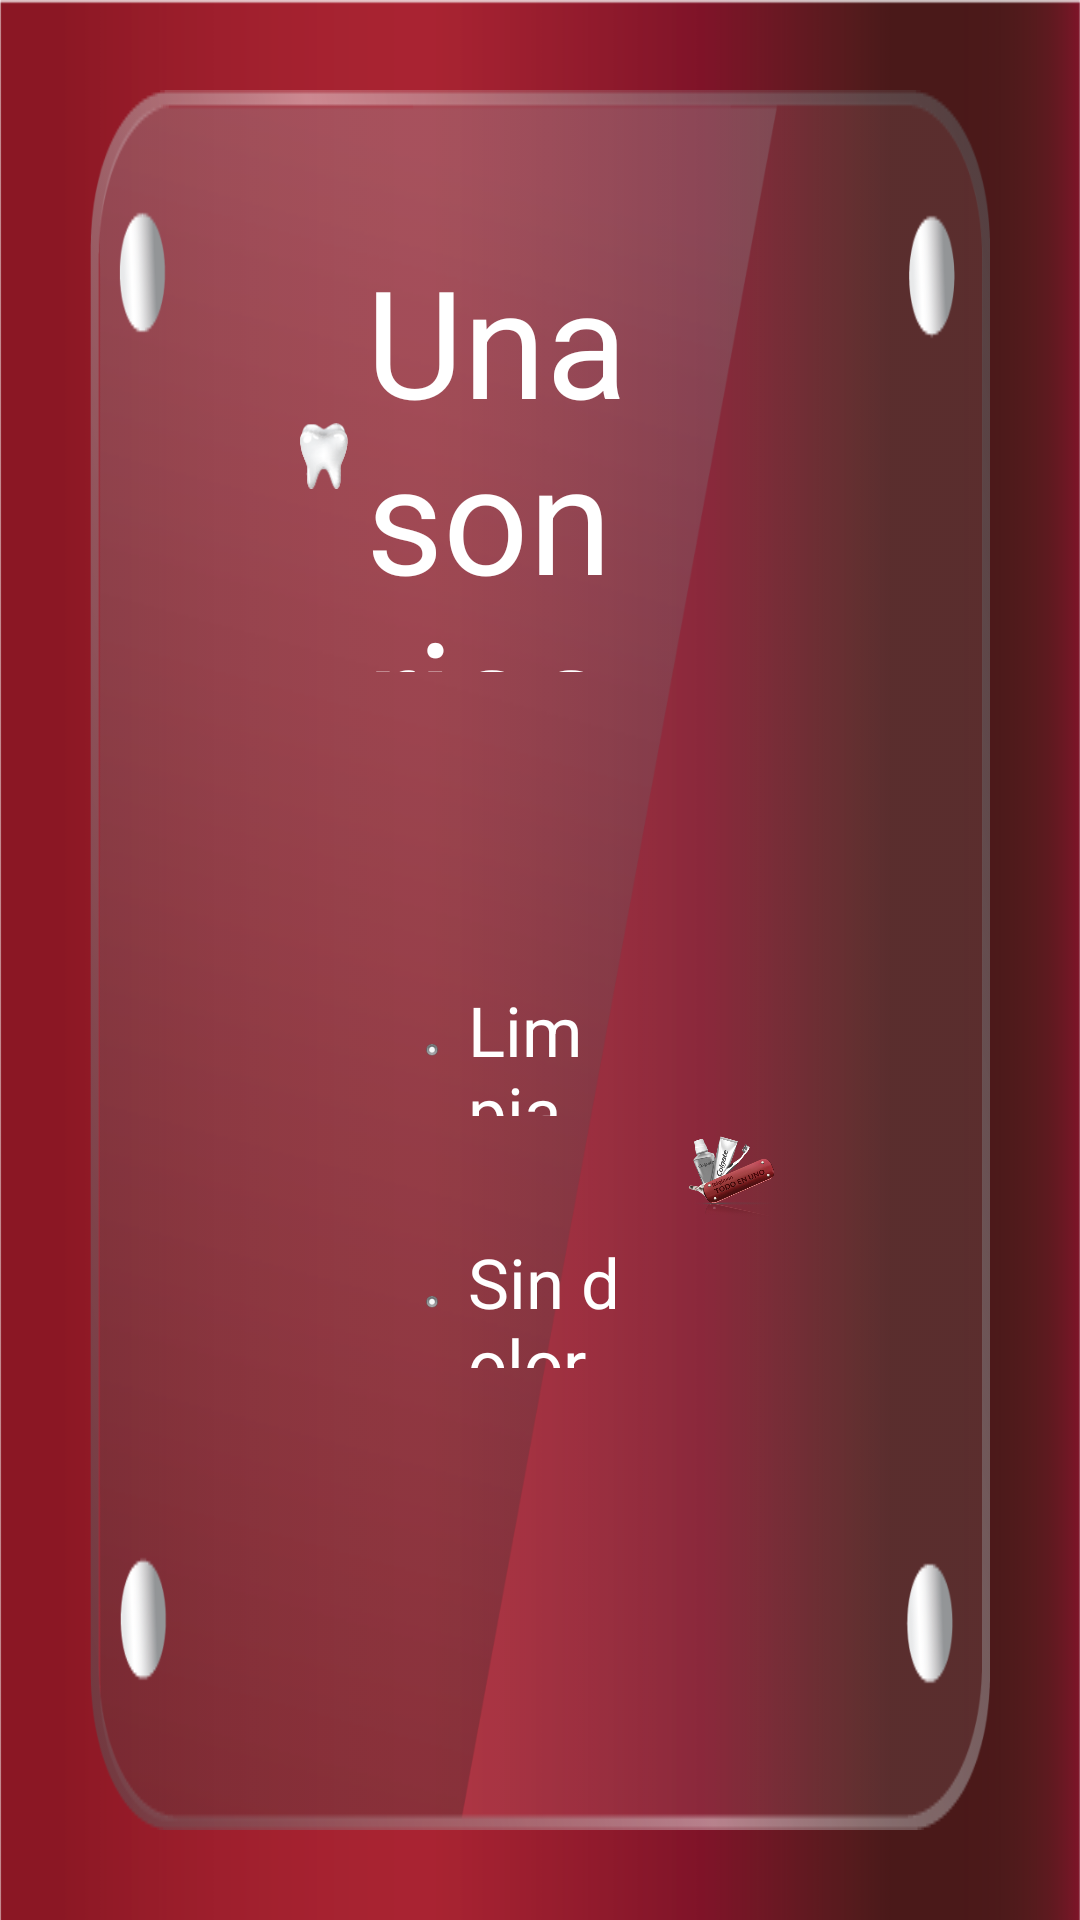

Named icons in this screenshot (1080×1920) and their bounding boxes, (x1, y1, x2, y2):
dientechico: (300, 423, 348, 489)
